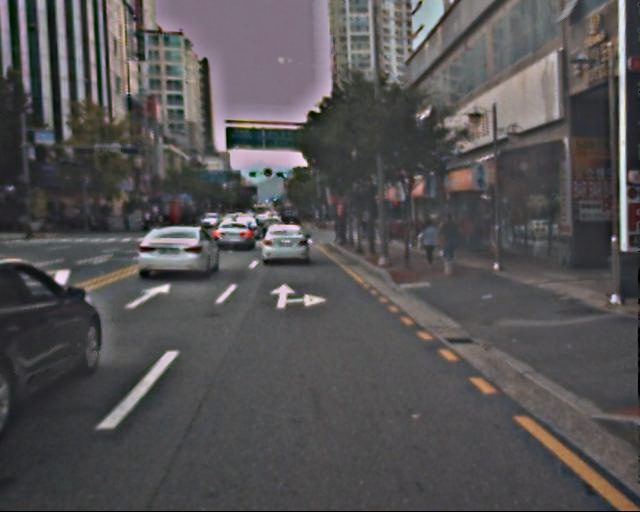person: (437, 210, 460, 266), (419, 218, 439, 267)
